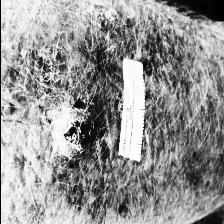Potentially Malignant Skin Tumors: (54, 108, 92, 160)
